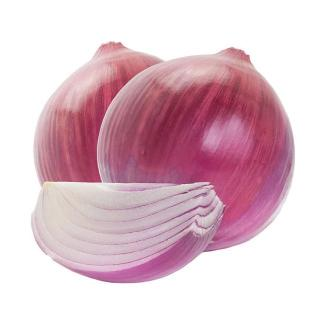Bawang Merah: (27, 40, 298, 286)
